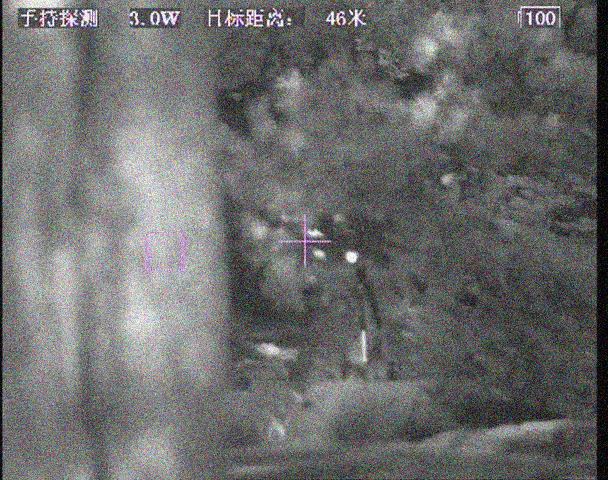my: (345, 250, 357, 264)
